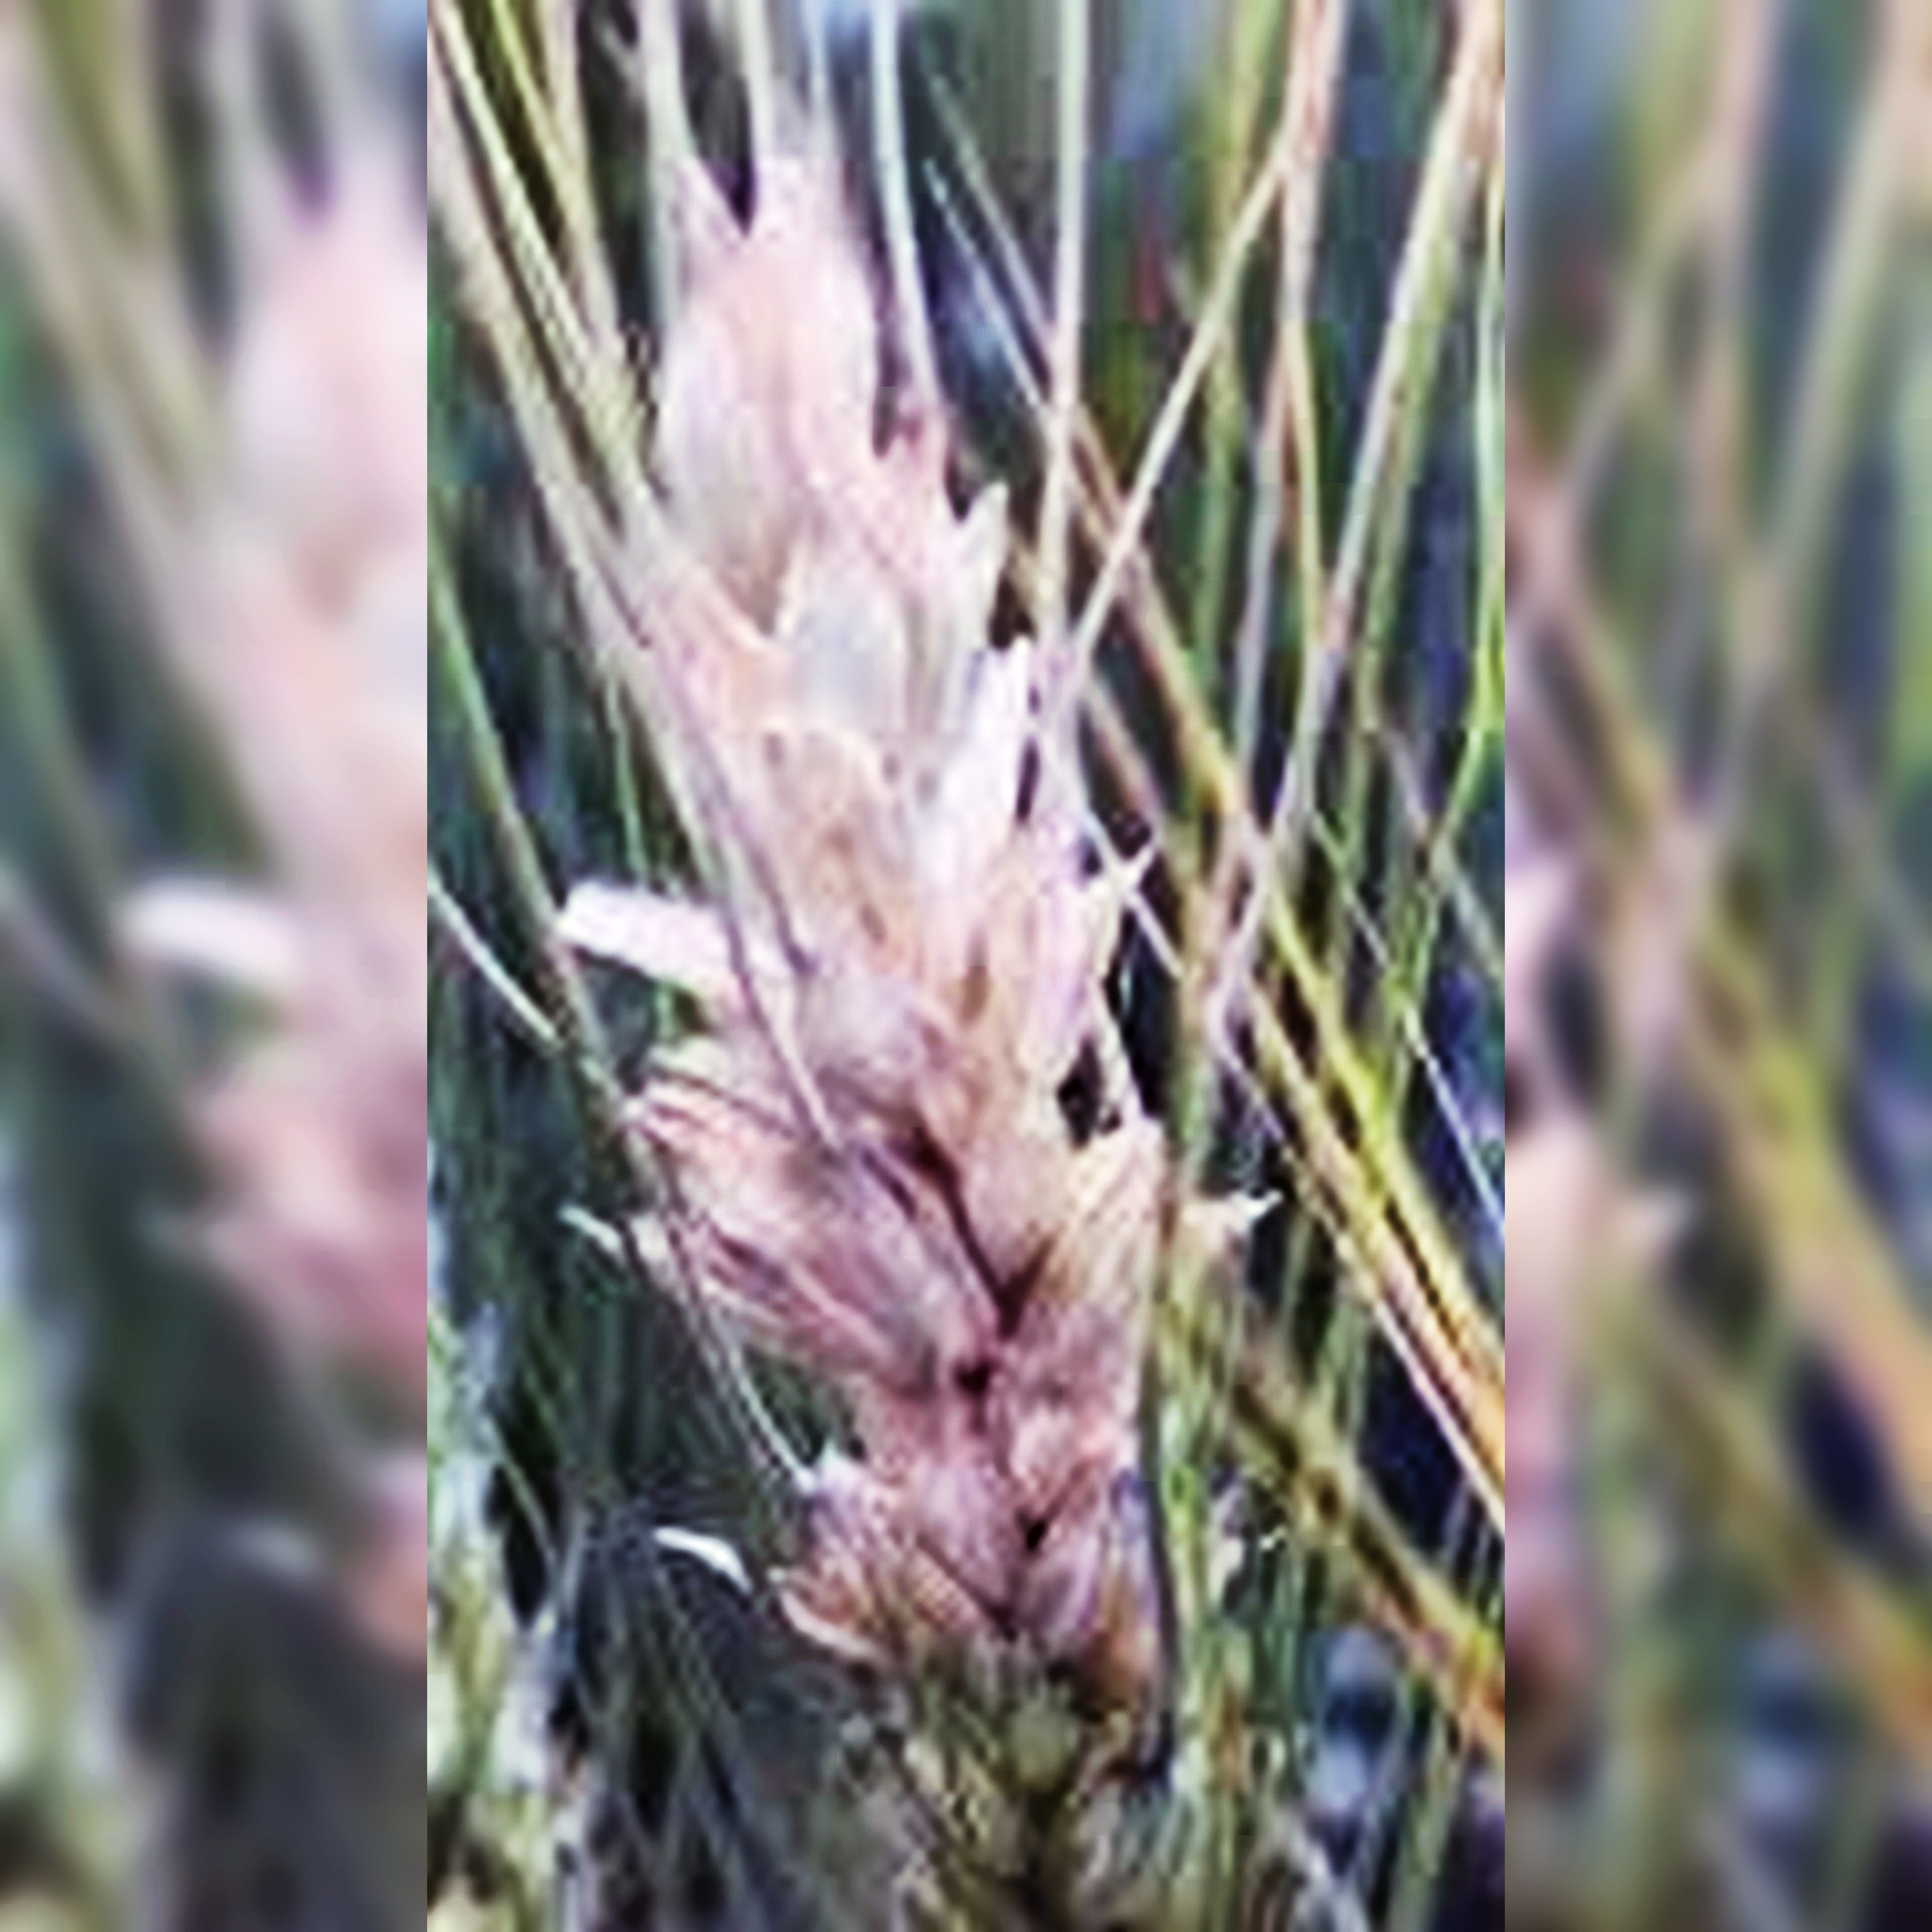Wheat scab: (579, 246, 1244, 1907)
